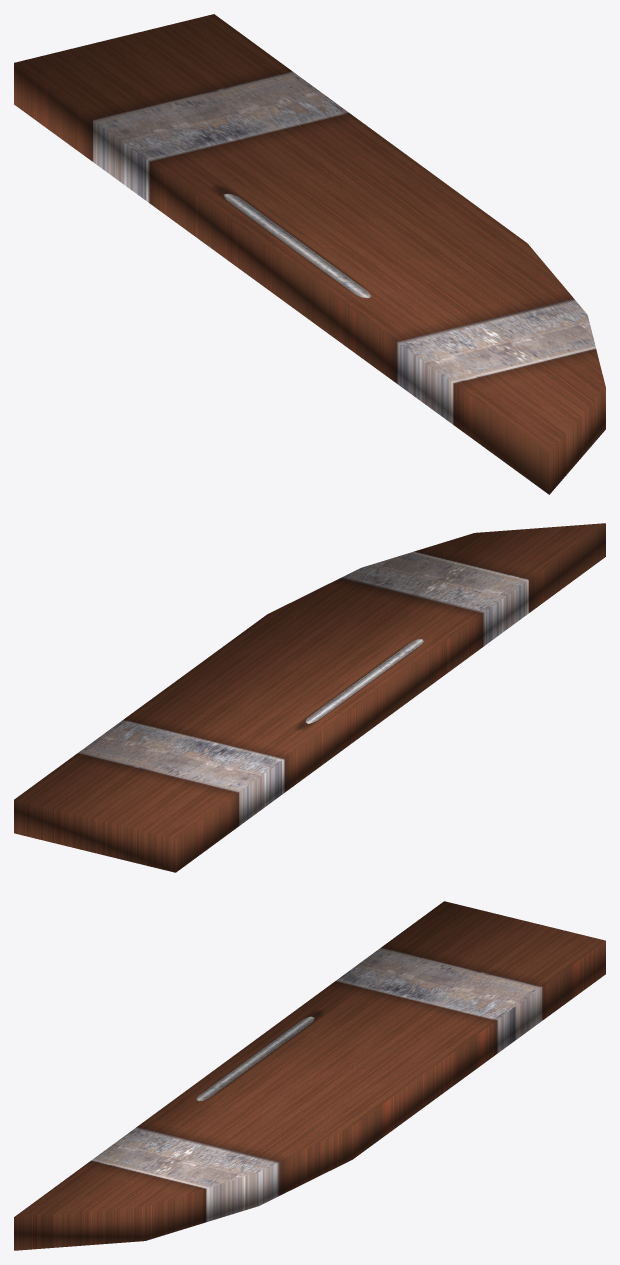
Rendered from windowshutter.obj.
The picture shows the model from 3 angles, top to bottom: view 1: azimuth 30°, elevation 25°; view 2: azimuth 150°, elevation 25°; view 3: azimuth 330°, elevation 25°; orthographic projection. The views are drawn at different scales.
Visible parts, largest first — view 1: Window_Shutter_L012; view 2: Window_Shutter_L012; view 3: Window_Shutter_L012.
Boxes of the visible parts, x1,y1,x2,y2 form: Window_Shutter_L012: [14, 14, 605, 494]; Window_Shutter_L012: [14, 523, 605, 872]; Window_Shutter_L012: [14, 901, 605, 1250].
Size of the model in its own units: 1.01 by 0.2 by 4.65.
